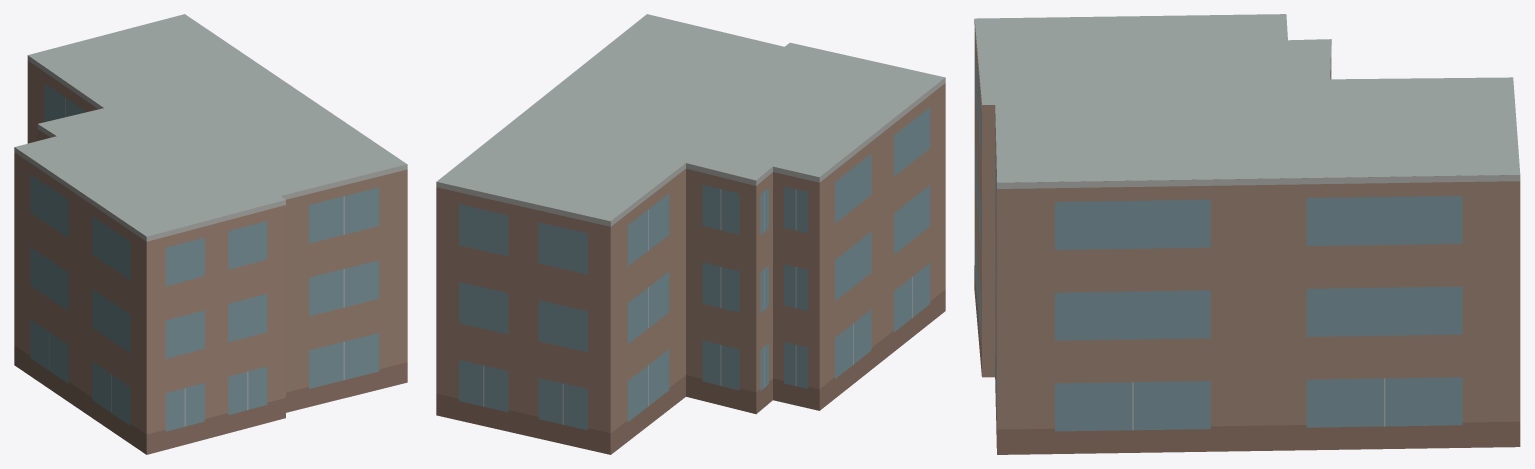
File: survey-upis-32973634.glb
The picture shows the model from 3 angles, left to right: view 1: azimuth 30°, elevation 25°; view 2: azimuth 150°, elevation 25°; view 3: azimuth 270°, elevation 25°; orthographic projection. The views are drawn at different scales.
Parts seen in each view (by area): view 1: survey-upis-32973634.tmp; view 2: survey-upis-32973634.tmp; view 3: survey-upis-32973634.tmp.
Part boxes in pixels (box(x1,y1,x2,y2)): survey-upis-32973634.tmp: box(14, 14, 407, 454); survey-upis-32973634.tmp: box(436, 14, 945, 454); survey-upis-32973634.tmp: box(974, 14, 1520, 454).
Size of the model in its own units: 13.97 by 10.5 by 19.09.
